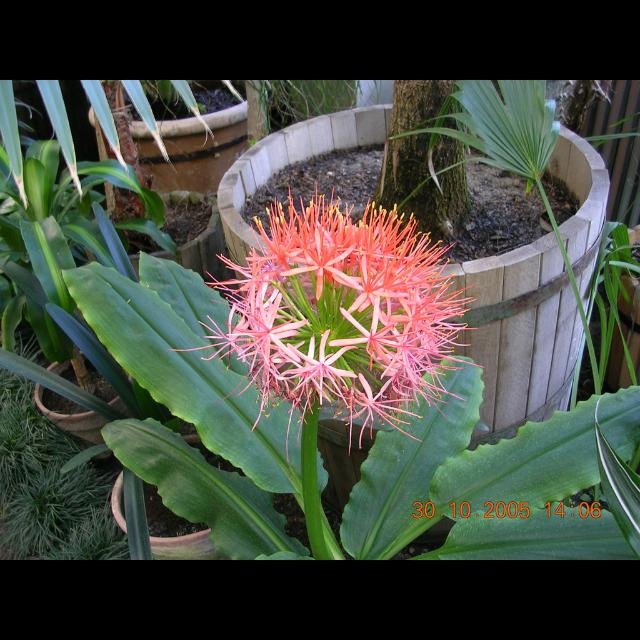Flower: (190, 207, 434, 431)
